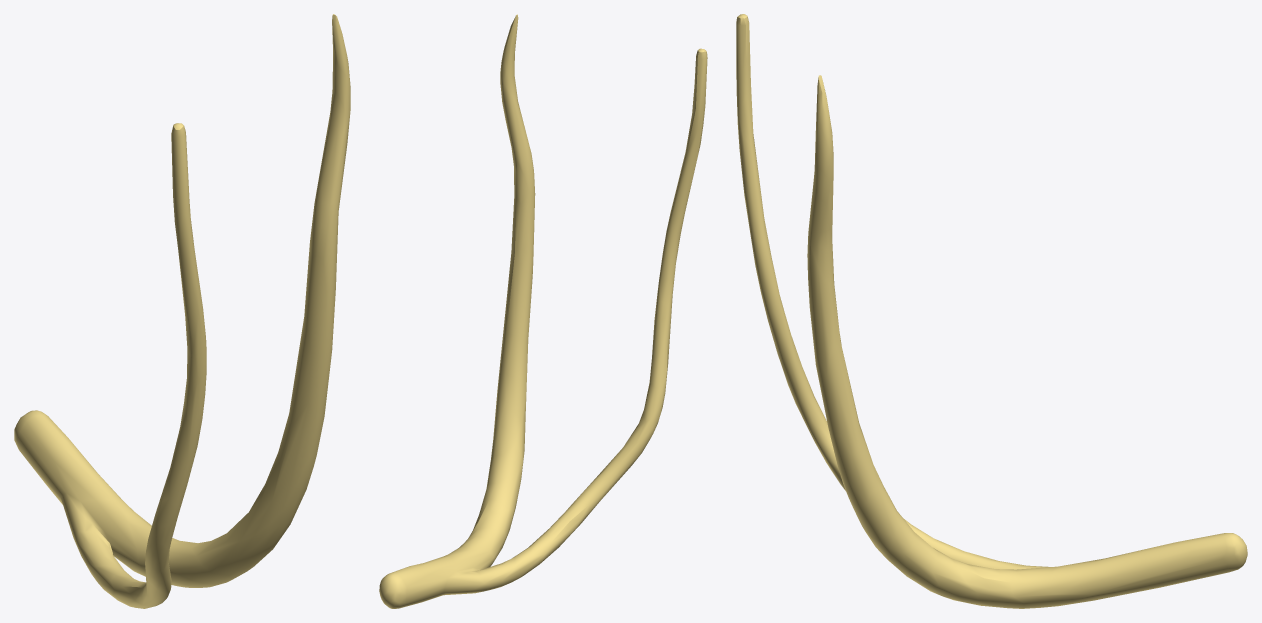
Rendered from fma52657_fj3924.glb.
3 renders of one model, left to right at view 1: azimuth 30°, elevation 25°; view 2: azimuth 150°, elevation 25°; view 3: azimuth 270°, elevation 25°, orthographic. The views are drawn at different scales.
Visible parts, largest first — view 1: FMA52657_FJ3924; view 2: FMA52657_FJ3924; view 3: FMA52657_FJ3924.
Part boxes in pixels (bbox=[...]): FMA52657_FJ3924: bbox=[14, 14, 350, 608]; FMA52657_FJ3924: bbox=[379, 14, 707, 608]; FMA52657_FJ3924: bbox=[736, 14, 1247, 608].
Bounding box in the file's own units: 0.00661 × 0.0179 × 0.0148.
